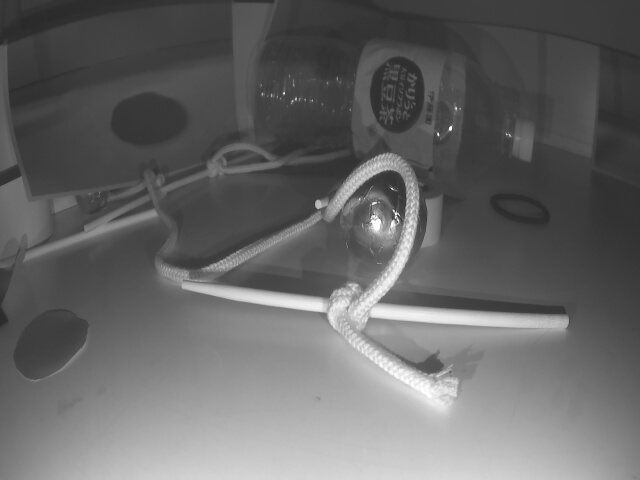Live: (342, 167, 427, 266)
